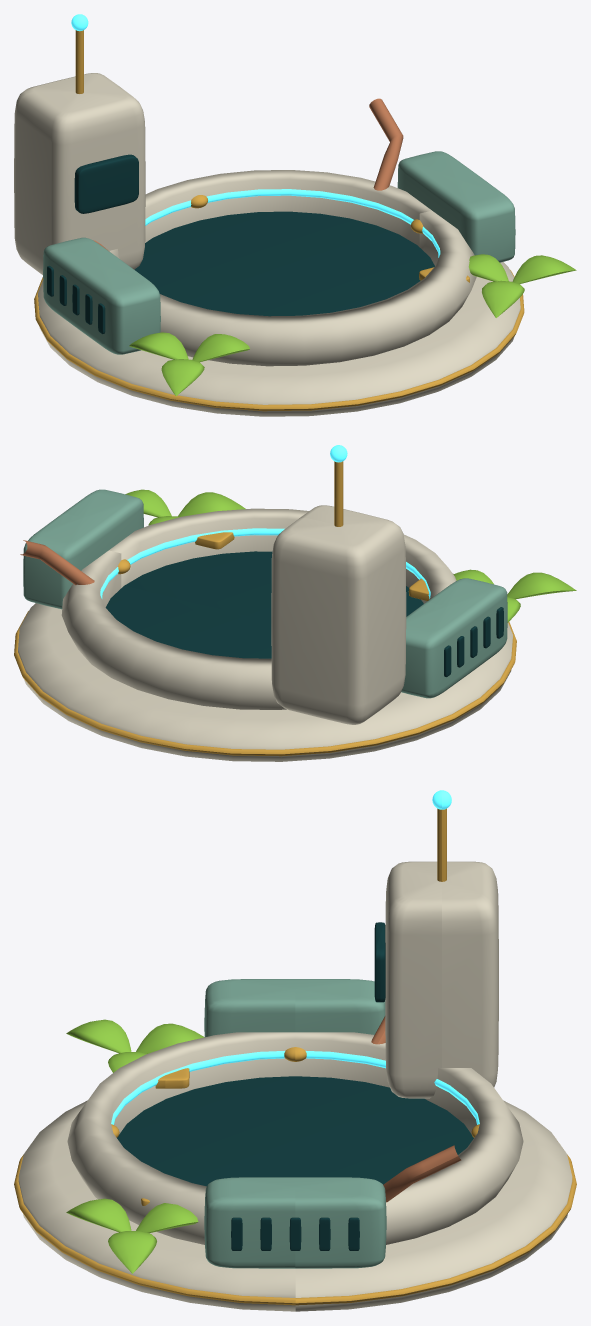
Rendered from droneHub.glb.
3 renders of one model, top to bottom at view 1: azimuth 30°, elevation 25°; view 2: azimuth 150°, elevation 25°; view 3: azimuth 270°, elevation 25°, orthographic. The views are drawn at different scales.
Parts seen in each view (by area): view 1: droneHub, dock-ring; view 2: droneHub, dock-ring; view 3: droneHub, dock-ring.
Boxes of the visible parts, box(x1,y1,x2,y2) form: droneHub: box(14, 30, 576, 416); dock-ring: box(145, 189, 440, 257); droneHub: box(14, 461, 576, 761); dock-ring: box(100, 528, 430, 598); droneHub: box(14, 808, 576, 1311); dock-ring: box(111, 1047, 479, 1137).
Size of the model in its own units: 1.78 by 1.15 by 1.73.
